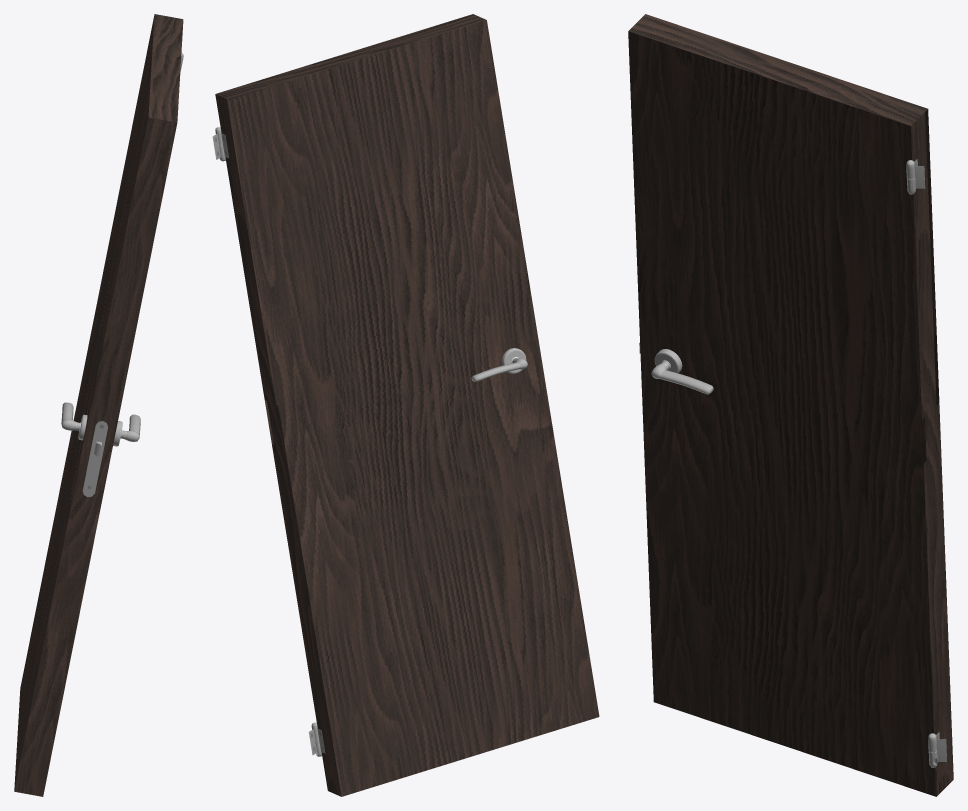
File: door 2.glb
3 views of the same model, side by side, from view 1: azimuth 30°, elevation 25°; view 2: azimuth 150°, elevation 25°; view 3: azimuth 270°, elevation 25° (orthographic). The views are drawn at different scales.
Visible parts, largest first — view 1: D2-Preview; view 2: D2-Preview; view 3: D2-Preview.
Part boxes in pixels (x1,y1,x2,y2): D2-Preview: (14, 14, 183, 796); D2-Preview: (212, 14, 599, 796); D2-Preview: (628, 14, 953, 796).
Bounding box in the file's own units: 2.16 × 5.08 × 1.96.
Materials: 1 (1 with a texture image).
